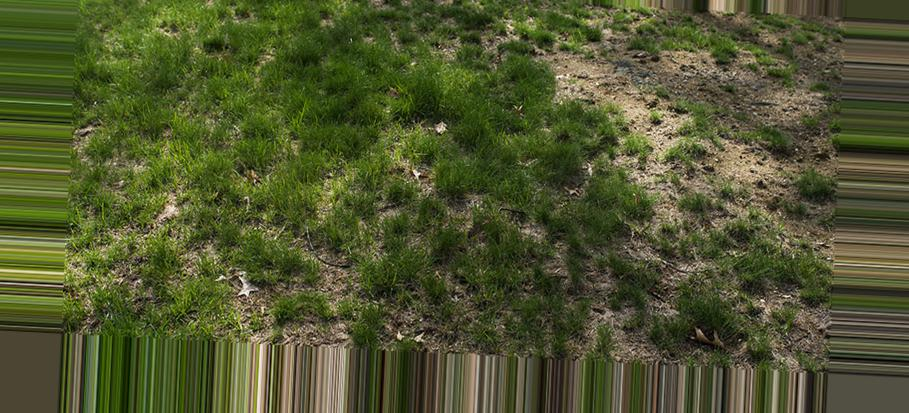patch: (594, 42, 793, 190)
